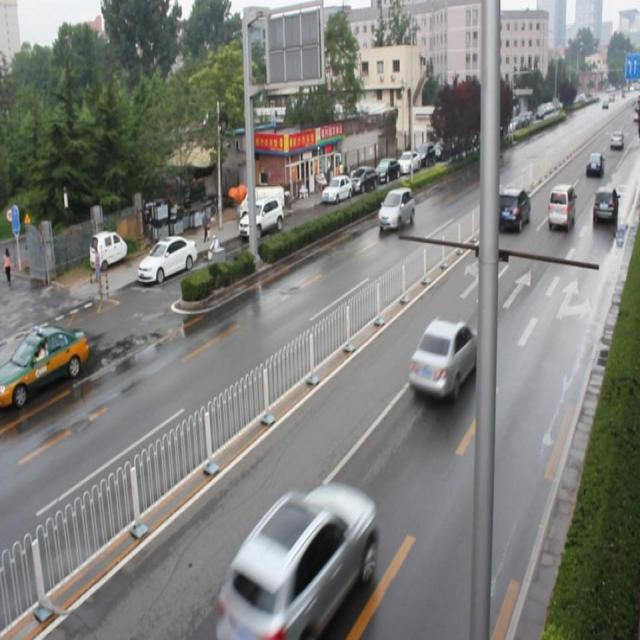car: (222, 481, 377, 631), (411, 319, 475, 400), (378, 187, 412, 230), (590, 187, 615, 225)
truck: (494, 186, 528, 232), (546, 187, 573, 230)
